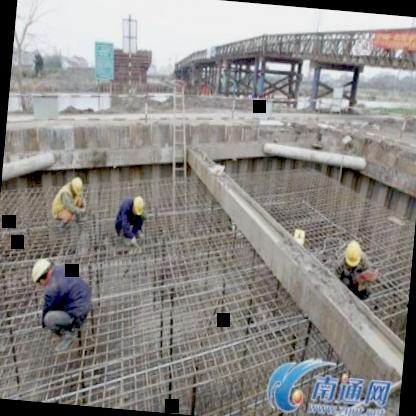helmet: (28, 254, 56, 289), (342, 237, 364, 269), (67, 172, 85, 200), (130, 195, 147, 219)
